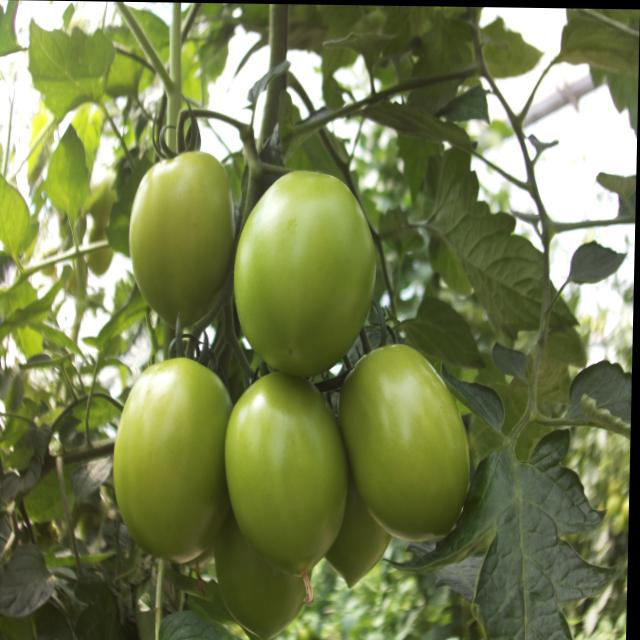yesil: (109, 138, 509, 640)
